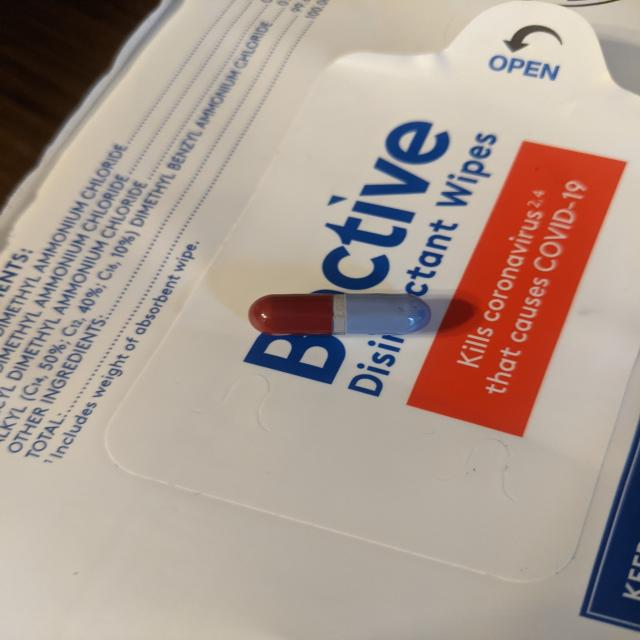non-organic waste: (246, 291, 433, 337)
